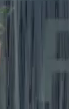Parking: (13, 7, 67, 98)
